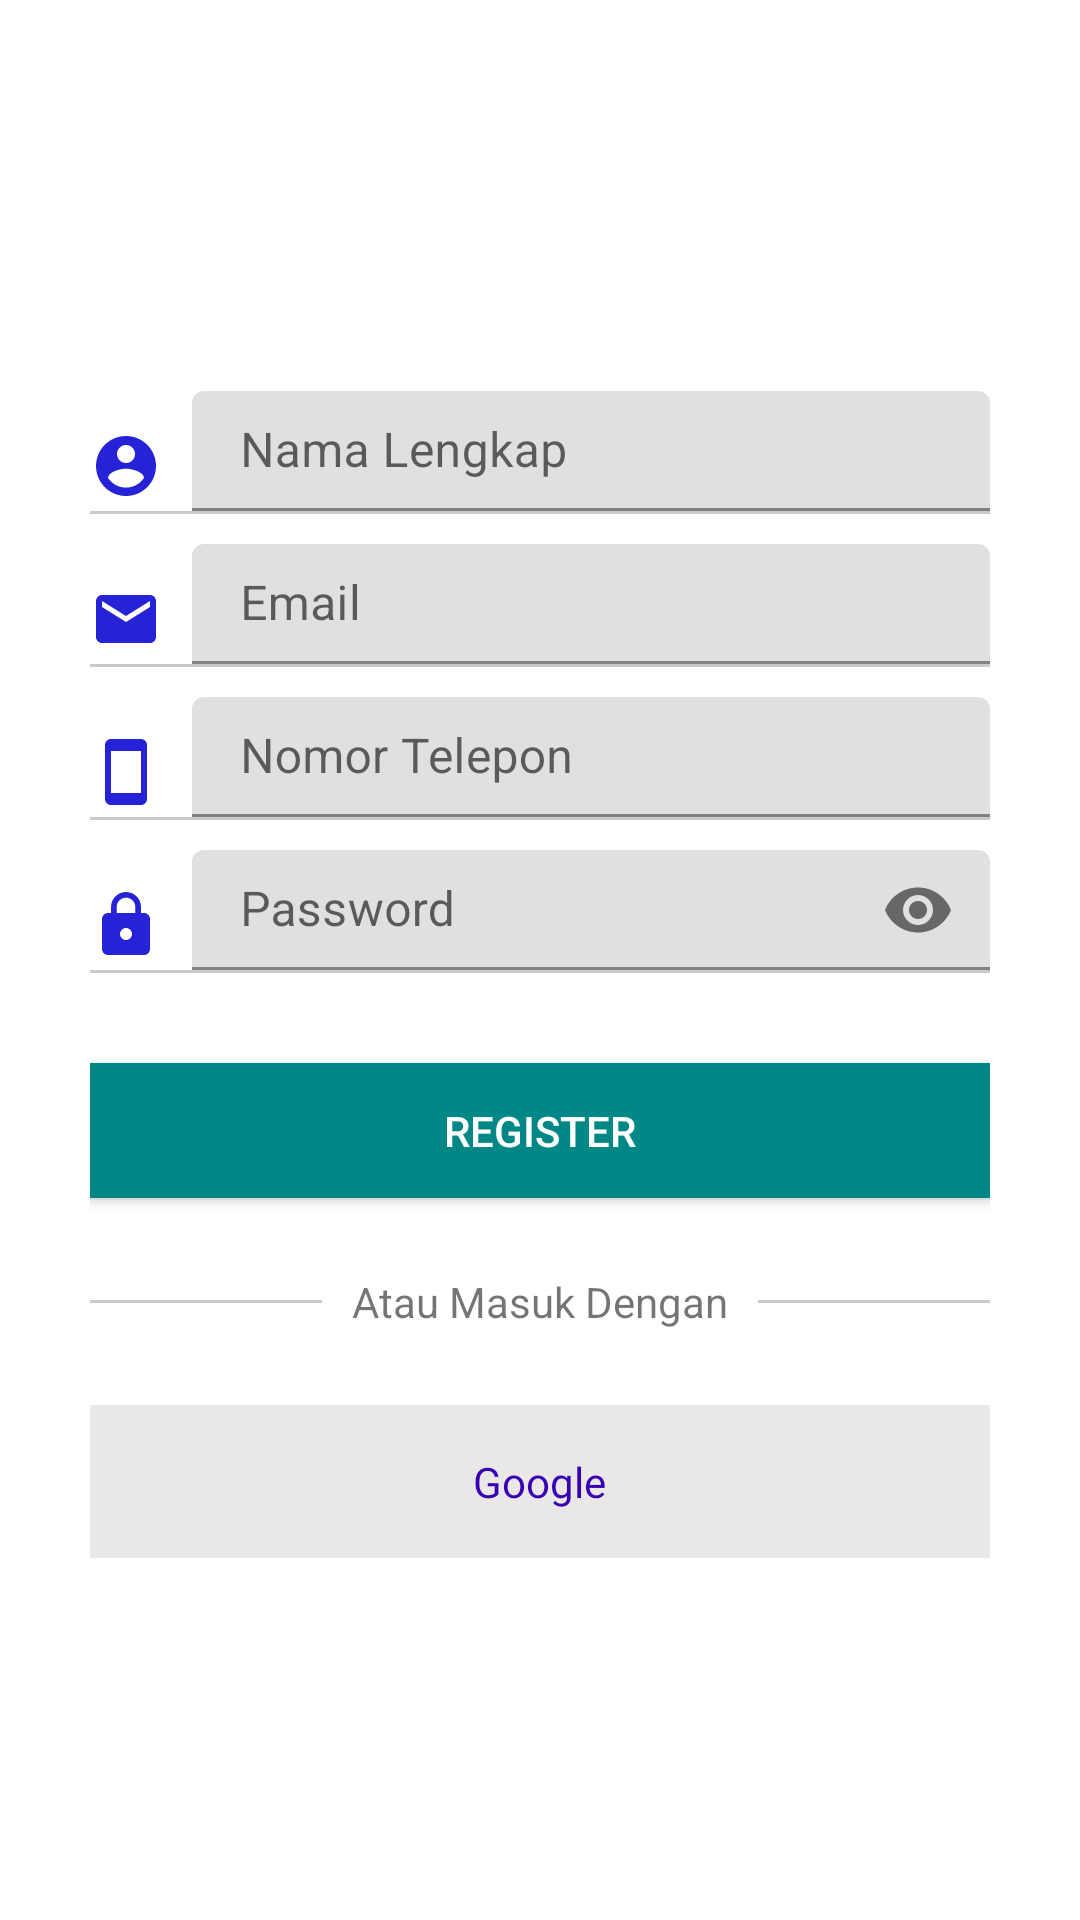

Icons on this 1080x1920 Android screen, each with its box as {"x1": x1, "y1": y1, "x2": x2, "y2": y2}:
account circle: {"x1": 96, "y1": 436, "x2": 156, "y2": 496}
lock: {"x1": 102, "y1": 892, "x2": 150, "y2": 955}
smartphone: {"x1": 105, "y1": 739, "x2": 147, "y2": 805}
